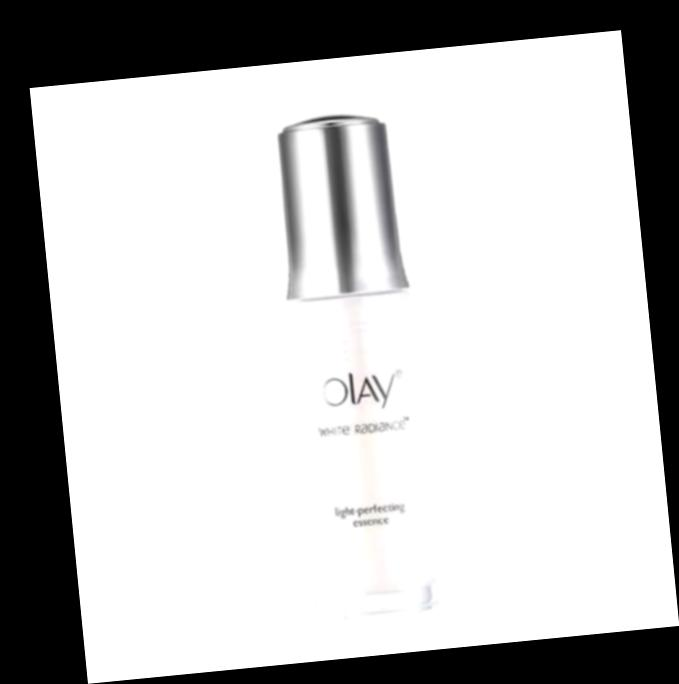cosmetic: (266, 107, 442, 613)
